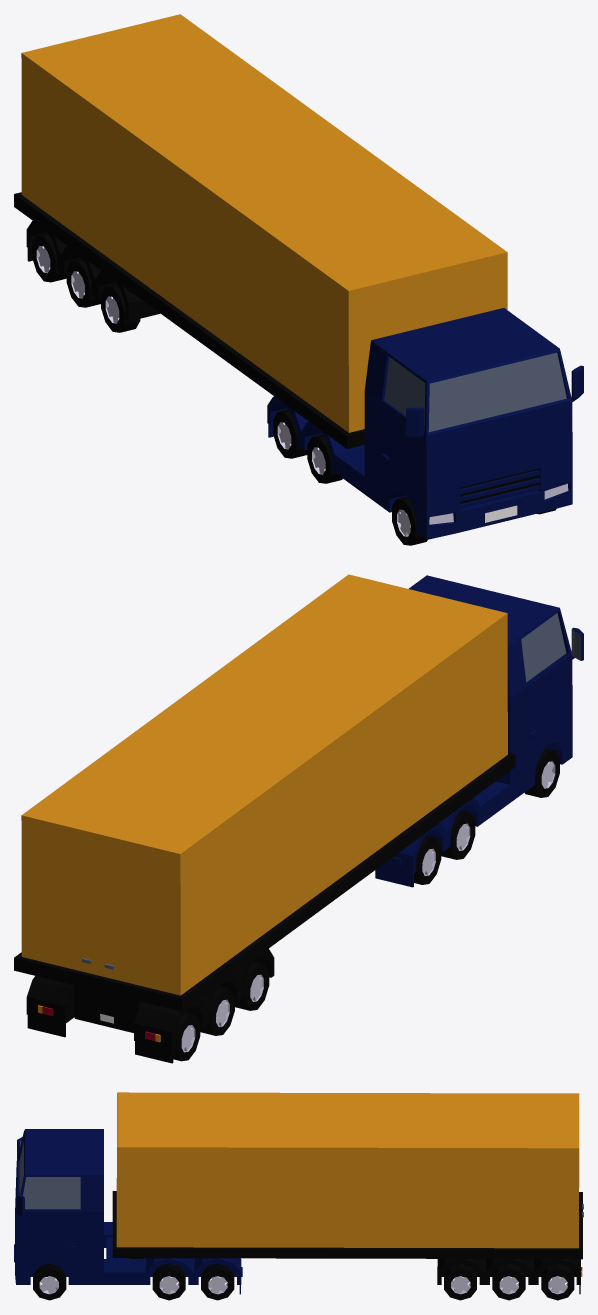
The model's file is Truck_with_trailer.glb.
3 views of the same model, one above another, from view 1: azimuth 30°, elevation 25°; view 2: azimuth 150°, elevation 25°; view 3: azimuth 270°, elevation 25° (orthographic). The views are drawn at different scales.
Parts seen in each view (by area): view 1: Truck with trailer_body dark yellow_0, Truck with trailer_body dark blue_0, Truck with trailer_body black_0, Truck with trailer_windows_0, Truck with trailer wheel rear right 3_tires_0, Truck with trailer wheel rear right 4_tires_0, Truck with trailer wheel front right_tires_0, Truck with trailer wheel rear right 5_tires_0, Truck with trailer wheel rear right 2_tires_0, Truck with trailer wheel rear right_tires_0; view 2: Truck with trailer_body dark yellow_0, Truck with trailer_body black_0, Truck with trailer_body dark blue_0, Truck with trailer_windows_0, Truck with trailer wheel rear right_tires_0, Truck with trailer wheel rear right 3_tires_0, Truck with trailer wheel rear right 4_tires_0, Truck with trailer wheel front right_tires_0, Truck with trailer wheel rear right 2_tires_0, Truck with trailer wheel rear right 5_tires_0; view 3: Truck with trailer_body dark yellow_0, Truck with trailer_body dark blue_0, Truck with trailer_body black_0, Truck with trailer_windows_0, Truck with trailer wheel rear left 2_tires_0, Truck with trailer wheel rear left 5_tires_0, Truck with trailer wheel front left_tires_0, Truck with trailer wheel rear left 4_tires_0, Truck with trailer wheel rear left_tires_0, Truck with trailer wheel rear left 3_tires_0, Truck with trailer wheel rear left_wheels_0, Truck with trailer wheel rear left 2_wheels_0 (+4 smaller).
Part boxes in pixels (left/top/right/bottom): Truck with trailer_body dark yellow_0: left=21, top=14, right=507, bottom=432; Truck with trailer_body dark blue_0: left=267, top=308, right=583, bottom=539; Truck with trailer_body black_0: left=14, top=192, right=537, bottom=503; Truck with trailer_windows_0: left=384, top=352, right=566, bottom=432; Truck with trailer wheel rear right 3_tires_0: left=101, top=283, right=140, bottom=332; Truck with trailer wheel rear right 4_tires_0: left=66, top=258, right=100, bottom=307; Truck with trailer wheel front right_tires_0: left=392, top=496, right=427, bottom=545; Truck with trailer wheel rear right 5_tires_0: left=32, top=233, right=66, bottom=282; Truck with trailer wheel rear right 2_tires_0: left=273, top=409, right=307, bottom=458; Truck with trailer wheel rear right_tires_0: left=307, top=434, right=342, bottom=483; Truck with trailer_body dark yellow_0: left=21, top=574, right=507, bottom=1042; Truck with trailer_body black_0: left=14, top=752, right=515, bottom=1063; Truck with trailer_body dark blue_0: left=375, top=575, right=583, bottom=887; Truck with trailer_windows_0: left=82, top=613, right=580, bottom=969; Truck with trailer wheel rear right_tires_0: left=441, top=810, right=475, bottom=859; Truck with trailer wheel rear right 3_tires_0: left=235, top=961, right=269, bottom=1010; Truck with trailer wheel rear right 4_tires_0: left=200, top=986, right=234, bottom=1035; Truck with trailer wheel front right_tires_0: left=524, top=748, right=559, bottom=797; Truck with trailer wheel rear right 2_tires_0: left=414, top=835, right=441, bottom=884; Truck with trailer wheel rear right 5_tires_0: left=173, top=1012, right=200, bottom=1061; Truck with trailer_body dark yellow_0: left=116, top=1092, right=582, bottom=1276; Truck with trailer_body dark blue_0: left=14, top=1129, right=242, bottom=1294; Truck with trailer_body black_0: left=112, top=1191, right=582, bottom=1294; Truck with trailer_windows_0: left=19, top=1140, right=583, bottom=1217; Truck with trailer wheel rear left 2_tires_0: left=201, top=1263, right=234, bottom=1300; Truck with trailer wheel rear left 5_tires_0: left=541, top=1263, right=574, bottom=1300; Truck with trailer wheel front left_tires_0: left=33, top=1263, right=66, bottom=1300; Truck with trailer wheel rear left 4_tires_0: left=492, top=1263, right=525, bottom=1300; Truck with trailer wheel rear left_tires_0: left=152, top=1263, right=185, bottom=1300; Truck with trailer wheel rear left 3_tires_0: left=444, top=1263, right=476, bottom=1300; Truck with trailer wheel rear left_wheels_0: left=159, top=1276, right=179, bottom=1294; Truck with trailer wheel rear left 2_wheels_0: left=208, top=1276, right=227, bottom=1294.
Bounding box in the file's own units: 3.41 × 4.05 × 13.42.
